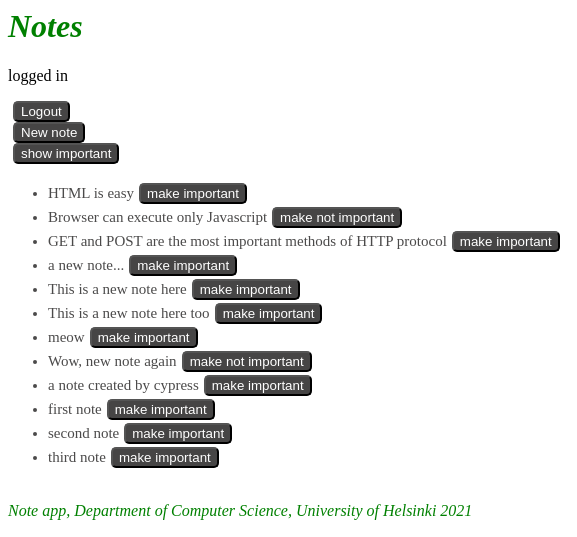
Scenario: Note app › when logged in › and several notes exist › one of those can be made important
Click the button "make important" next to "second note" at (178, 434), box top-left (124, 423), bottom-right (232, 444)
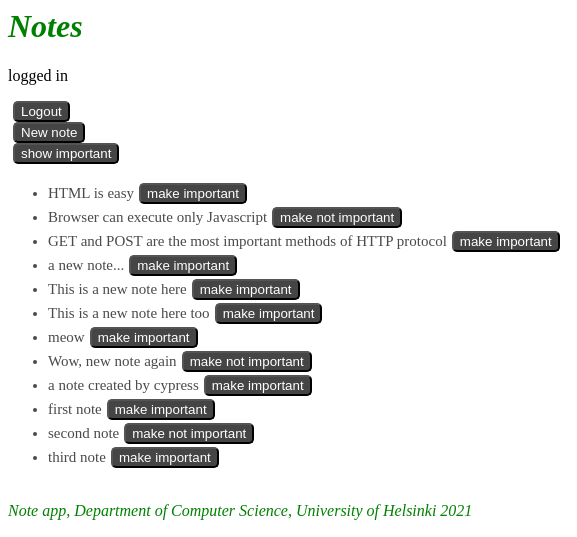
Result: the button "make not important" next to "second note" is shown at top-left (124, 423), bottom-right (254, 444)
